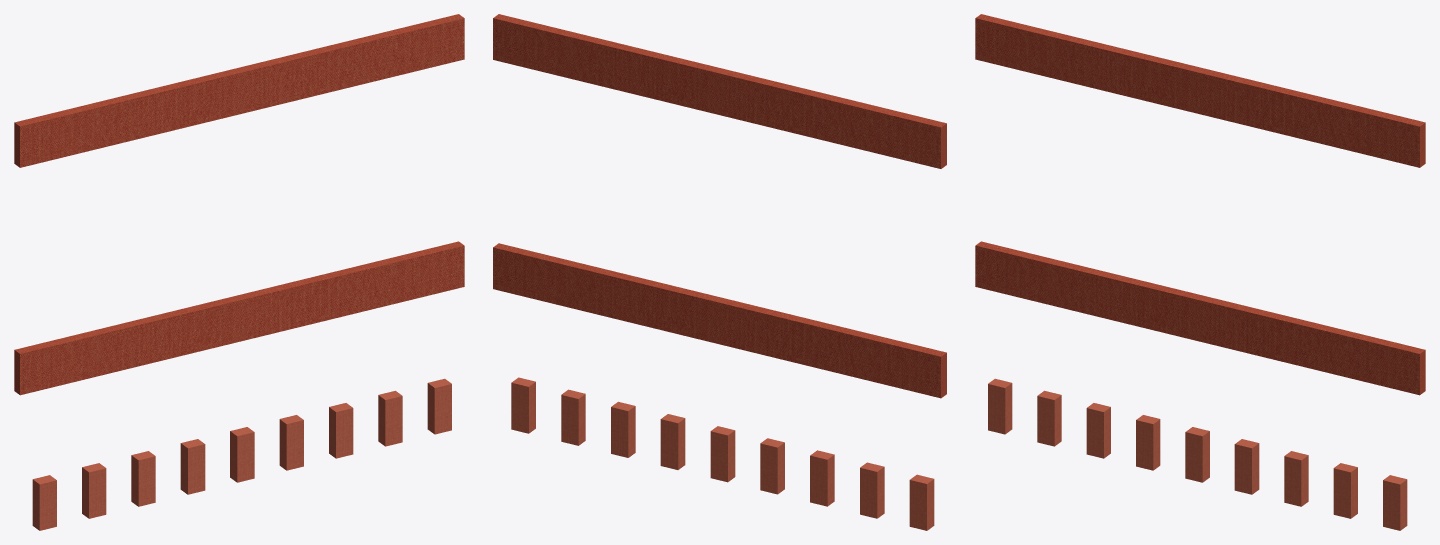
File: towel.gltf
The picture shows the model from 3 angles, left to right: view 1: azimuth 30°, elevation 25°; view 2: azimuth 150°, elevation 25°; view 3: azimuth 330°, elevation 25°; orthographic projection.
Visible parts, largest first — view 1: band2, band1, loop_3, loop_8, loop_2, loop_4, loop_7, loop_5, loop_1, loop_6, loop_0; view 2: band1, band2, loop_0, loop_4, loop_5, loop_1, loop_2, loop_7, loop_3, loop_6, loop_8; view 3: band2, band1, loop_5, loop_0, loop_1, loop_4, loop_6, loop_3, loop_2, loop_7, loop_8.
Boxes of the visible parts, bbox=[...] form: band2: bbox=[14, 14, 464, 167]; band1: bbox=[14, 241, 464, 395]; loop_3: bbox=[180, 439, 205, 494]; loop_8: bbox=[427, 378, 451, 434]; loop_2: bbox=[131, 451, 155, 506]; loop_4: bbox=[230, 427, 254, 482]; loop_7: bbox=[378, 390, 402, 446]; loop_5: bbox=[279, 415, 303, 470]; loop_1: bbox=[82, 463, 106, 518]; loop_6: bbox=[329, 403, 353, 458]; loop_0: bbox=[32, 475, 56, 530]; band1: bbox=[493, 243, 946, 398]; band2: bbox=[493, 14, 946, 168]; loop_0: bbox=[909, 474, 934, 530]; loop_4: bbox=[710, 426, 735, 482]; loop_5: bbox=[660, 414, 685, 469]; loop_1: bbox=[860, 462, 884, 518]; loop_2: bbox=[810, 450, 834, 506]; loop_7: bbox=[561, 389, 585, 445]; loop_3: bbox=[760, 438, 784, 494]; loop_6: bbox=[611, 401, 635, 457]; loop_8: bbox=[511, 377, 535, 433]; band2: bbox=[975, 14, 1425, 167]; band1: bbox=[975, 241, 1425, 395]; loop_5: bbox=[1234, 439, 1259, 494]; loop_0: bbox=[988, 378, 1012, 434]; loop_1: bbox=[1037, 390, 1061, 446]; loop_4: bbox=[1185, 427, 1209, 482]; loop_6: bbox=[1284, 451, 1308, 506]; loop_3: bbox=[1136, 415, 1160, 470]; loop_2: bbox=[1086, 403, 1110, 458]; loop_7: bbox=[1333, 463, 1357, 518]; loop_8: bbox=[1383, 475, 1407, 530].
Bounding box in the file's own units: 0.9 × 0.785 × 0.0325.
2 materials, 2 textured.
